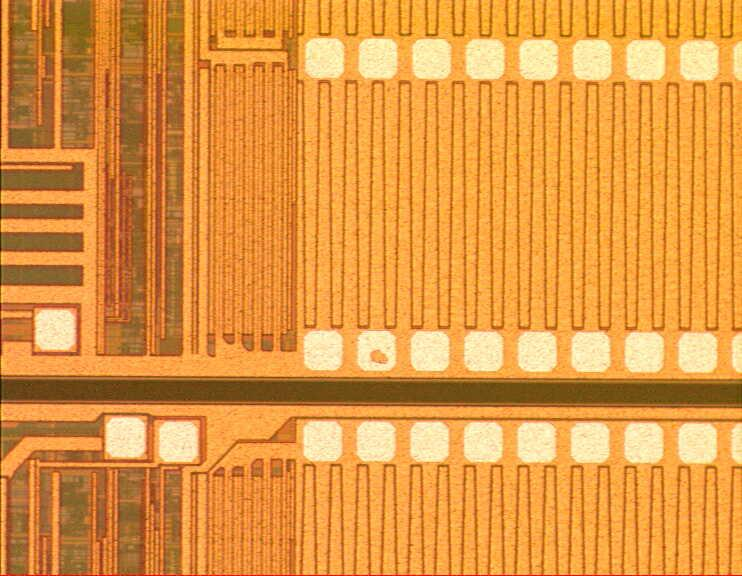BLOCK ETCH: (365, 342, 397, 374)
